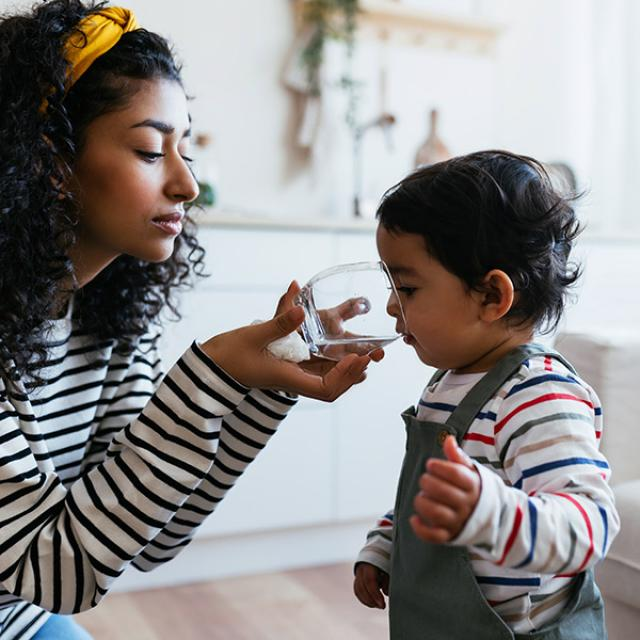adult: (0, 1, 391, 640)
child: (354, 154, 617, 640)
